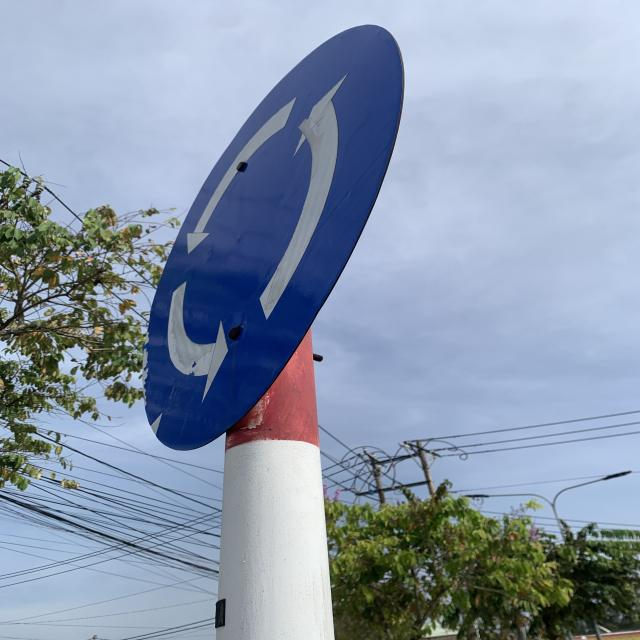Xe_Bus: (148, 22, 404, 449)
